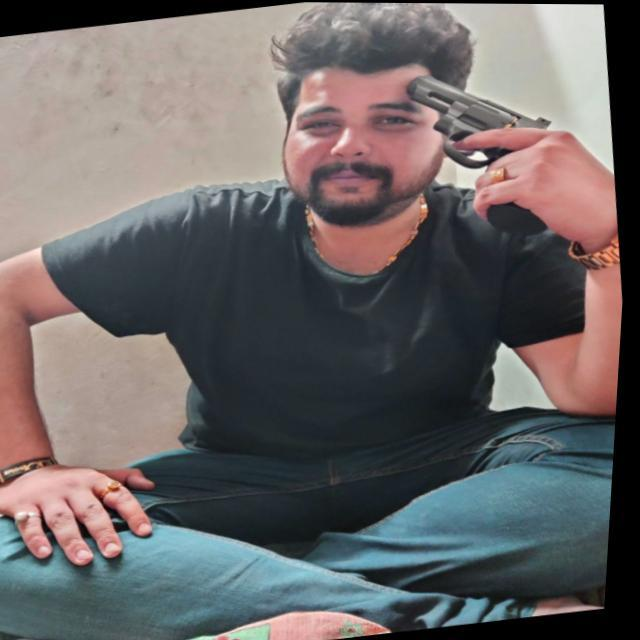weapon: (383, 42, 612, 260)
